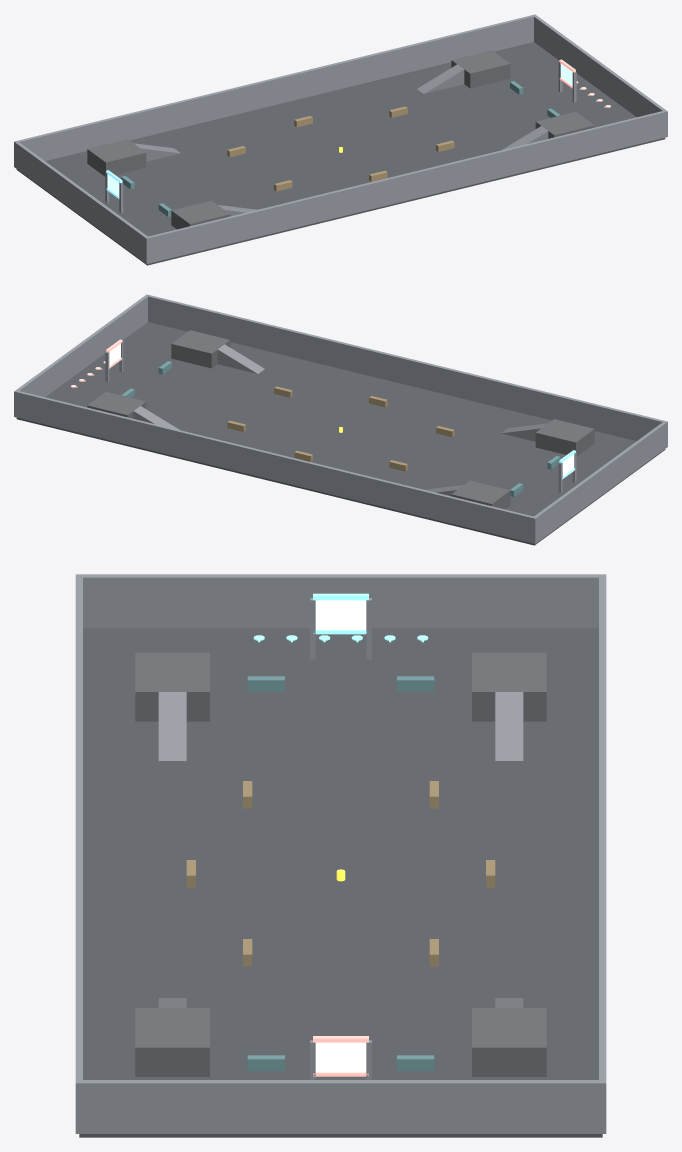
Rendered from goal_field.glb.
3 renders of one model, top to bottom at view 1: azimuth 30°, elevation 25°; view 2: azimuth 150°, elevation 25°; view 3: azimuth 270°, elevation 25°, orthographic. The views are drawn at different scales.
Visible parts, largest first — view 1: floor, perimeter.S0, perimeter.N0, perimeter.W0, perimeter.E0, gallery_A_n, gallery_B_n, gallery_A_s, gallery_B_s, gallery_B_ramp_n, gallery_A_ramp_n, gallery_B_ramp_s; view 2: floor, perimeter.N0, perimeter.S0, perimeter.W0, perimeter.E0, gallery_A_s, gallery_B_s, gallery_A_n, gallery_B_n, gallery_B_ramp_s, gallery_A_ramp_s, gallery_B_ramp_n; view 3: floor, perimeter.E0, perimeter.W0, gallery_B_n, gallery_B_s, perimeter.N0, perimeter.S0, gallery_A_n, gallery_A_s, gallery_A_ramp_n, gallery_A_ramp_s, hoop_B (+1 smaller).
Part boxes in pixels (<box>): floor: <box>16,42,665,265</box>; perimeter.S0: <box>145,110,667,263</box>; perimeter.N0: <box>14,14,536,167</box>; perimeter.W0: <box>14,142,149,263</box>; perimeter.E0: <box>532,14,667,136</box>; gallery_A_n: <box>87,139,146,176</box>; gallery_B_n: <box>451,50,510,88</box>; gallery_A_s: <box>171,200,230,229</box>; gallery_B_s: <box>535,112,594,138</box>; gallery_B_ramp_n: <box>417,64,464,93</box>; gallery_A_ramp_n: <box>134,143,180,161</box>; gallery_B_ramp_s: <box>502,126,548,149</box>; floor: <box>16,322,665,545</box>; perimeter.N0: <box>14,390,536,543</box>; perimeter.S0: <box>145,294,667,445</box>; perimeter.W0: <box>532,422,667,543</box>; perimeter.E0: <box>14,295,149,417</box>; gallery_A_s: <box>535,419,594,456</box>; gallery_B_s: <box>171,330,230,368</box>; gallery_A_n: <box>451,480,510,509</box>; gallery_B_n: <box>87,392,146,418</box>; gallery_B_ramp_s: <box>217,344,264,373</box>; gallery_A_ramp_s: <box>501,423,547,441</box>; gallery_B_ramp_n: <box>133,406,179,429</box>; floor: <box>79,628,602,1137</box>; perimeter.E0: <box>75,1080,606,1133</box>; perimeter.W0: <box>75,574,604,628</box>; gallery_B_n: <box>472,1008,546,1076</box>; gallery_B_s: <box>135,1008,209,1076</box>; perimeter.N0: <box>599,574,606,1133</box>; perimeter.S0: <box>75,574,82,1133</box>; gallery_A_n: <box>472,652,546,721</box>; gallery_A_s: <box>135,652,209,721</box>; gallery_A_ramp_n: <box>495,692,523,760</box>; gallery_A_ramp_s: <box>158,692,186,760</box>; hoop_B: <box>315,1042,366,1072</box>.
Size of the model in its own units: 129 by 8.1 by 56.8.
